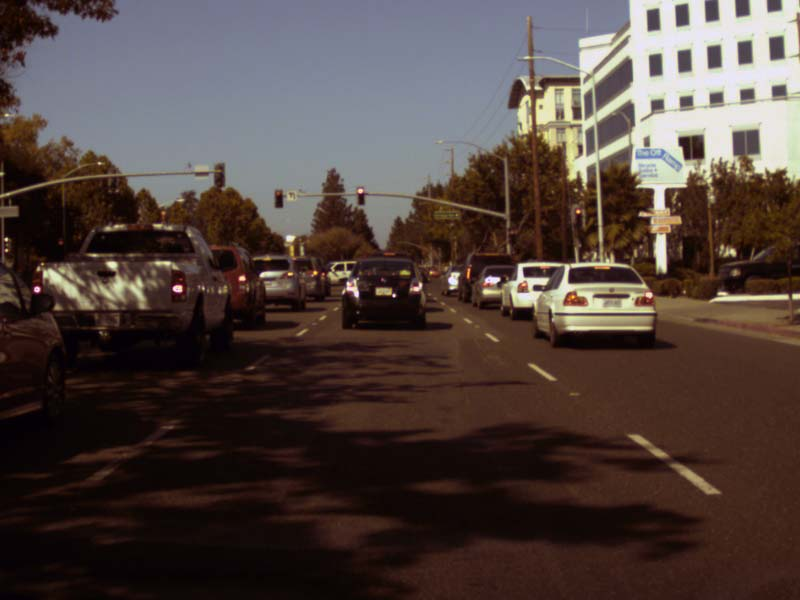Red: (574, 208, 582, 229), (508, 228, 516, 243), (357, 186, 363, 205)
Yellow: (274, 190, 282, 208)
